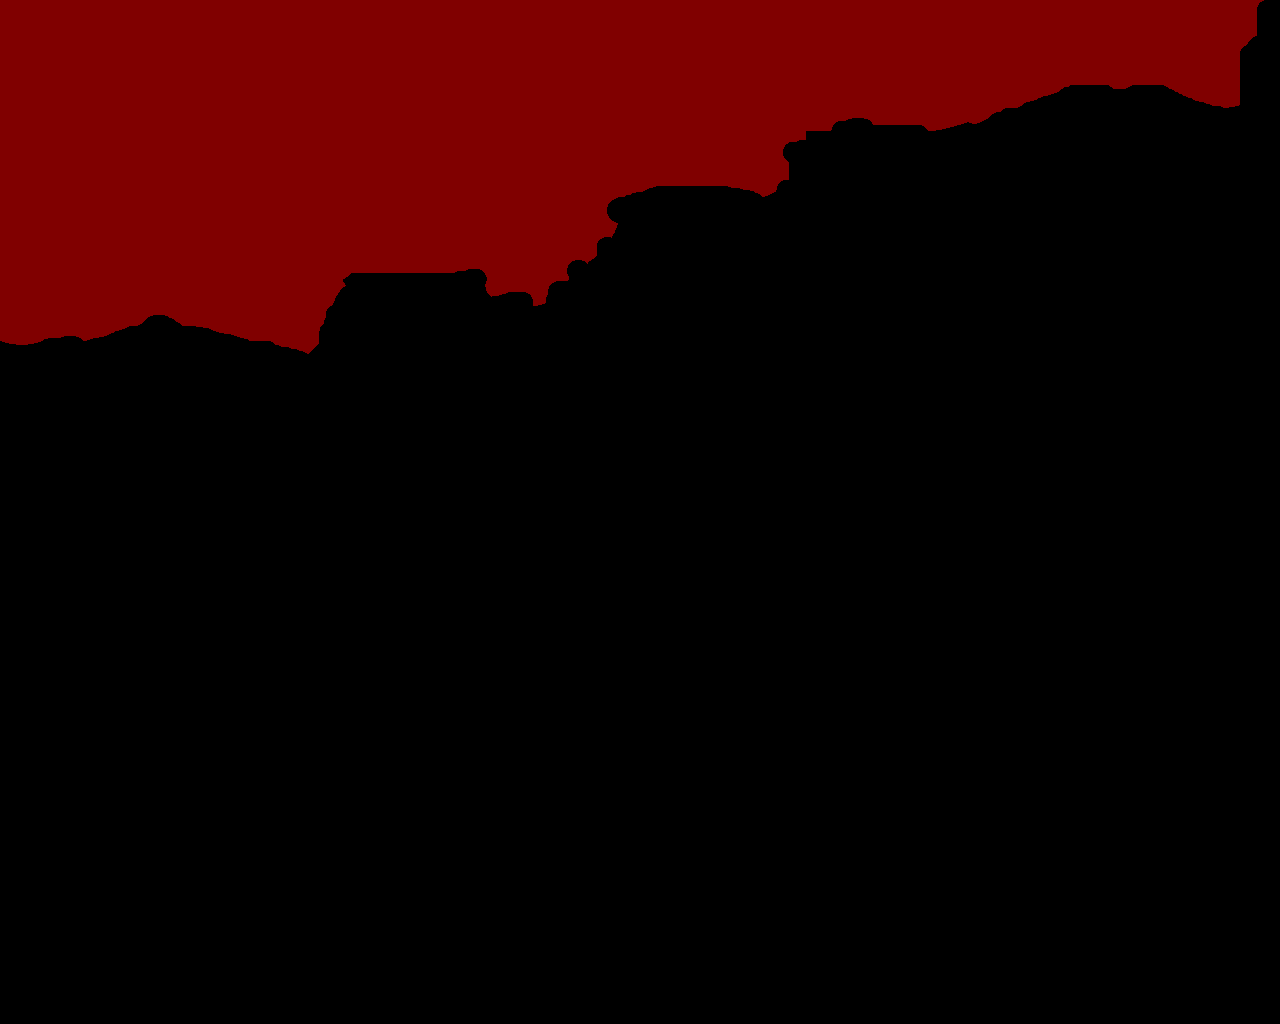Sky: (1, 1, 1263, 354)
